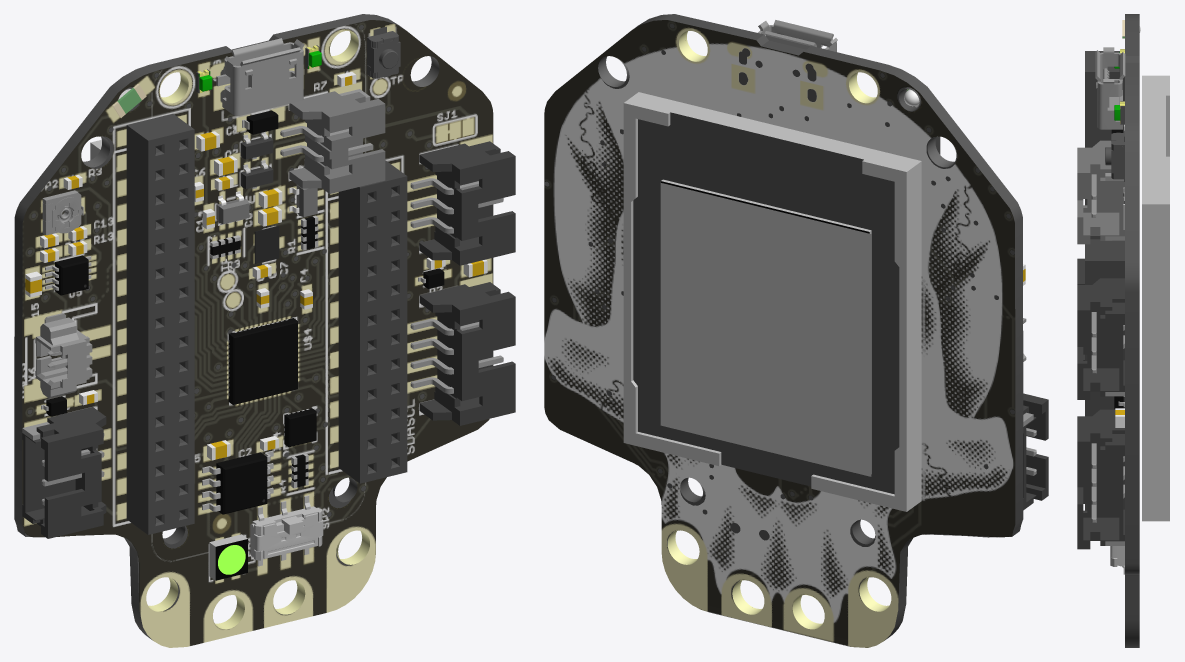
File: HallowingM0.dae
3 renders of one model, left to right at view 1: azimuth 30°, elevation 25°; view 2: azimuth 150°, elevation 25°; view 3: azimuth 270°, elevation 25°, orthographic. The views are drawn at different scales.
Parts seen in each view (by area): view 1: Polygon, Body1, Body8 (×2), Body5 (×3), Body2 (×10), Body26, Body10, SOT23-WIDE; view 2: Polygon, Body2 (×2), plane, Body5; view 3: Body2 (×6), Body5 (×3), Polygon, Body8 (×2), Body1.
Part boxes in pixels (left/top/right/bottom): Polygon: left=14, top=14, right=493, bottom=647; Body1: left=126, top=114, right=194, bottom=534; Body8 (×2): left=289, top=91, right=407, bottom=483; Body5 (×3): left=22, top=141, right=515, bottom=538; Body2 (×10): left=35, top=26, right=400, bottom=580; Body26: left=228, top=318, right=297, bottom=404; Body10: left=284, top=408, right=316, bottom=447; SOT23-WIDE: left=254, top=225, right=279, bottom=264; Polygon: left=544, top=14, right=1023, bottom=647; Body2 (×2): left=623, top=20, right=921, bottom=511; plane: left=660, top=183, right=871, bottom=476; Body5: left=1023, top=393, right=1048, bottom=510; Body2 (×6): left=1095, top=47, right=1169, bottom=574; Body5 (×3): left=1077, top=258, right=1124, bottom=549; Polygon: left=1125, top=14, right=1139, bottom=647; Body8 (×2): left=1077, top=140, right=1124, bottom=510; Body1: left=1085, top=51, right=1124, bottom=239.
Size of the model in its own units: 50.78 by 60.41 by 9.36.
34 materials, 2 textured.
